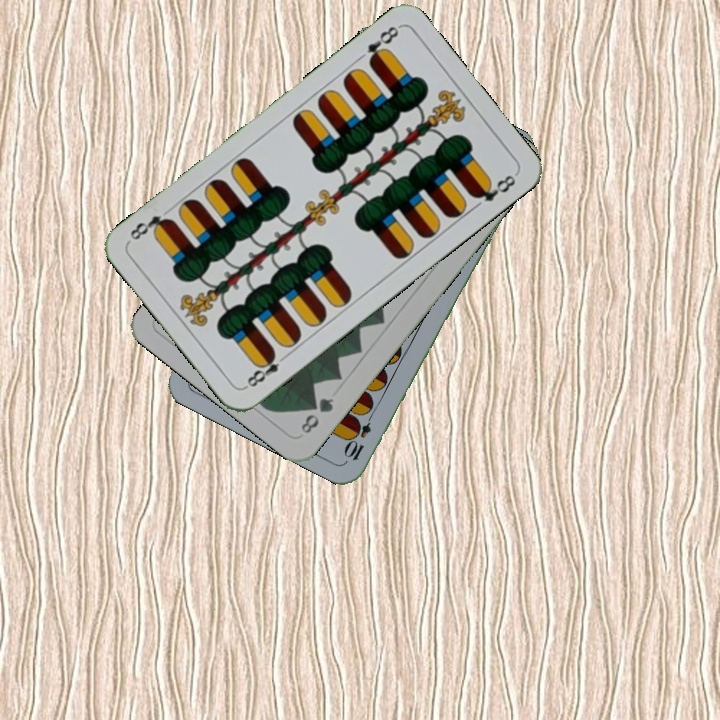E10: (342, 406, 377, 463)
E8: (241, 348, 292, 391), (362, 21, 402, 68)
G8: (296, 393, 337, 437)
